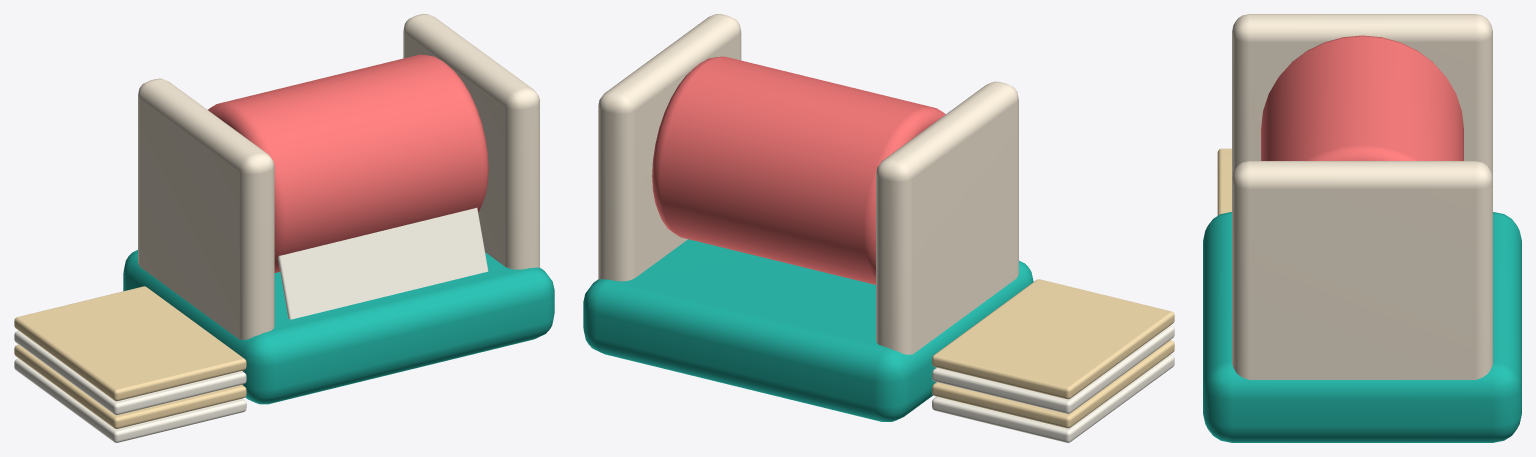
Rendered from CounterBags.fbx.
The picture shows the model from 3 angles, left to right: view 1: azimuth 30°, elevation 25°; view 2: azimuth 150°, elevation 25°; view 3: azimuth 270°, elevation 25°; orthographic projection. The views are drawn at different scales.
Visible parts, largest first — view 1: CounterBags mesh; view 2: CounterBags mesh; view 3: CounterBags mesh.
Boxes of the visible parts, <box> form: CounterBags mesh: <box>14,14,554,442</box>; CounterBags mesh: <box>583,14,1174,442</box>; CounterBags mesh: <box>1203,14,1521,442</box>.
Bounding box in the file's own units: 0.4 × 0.21 × 0.22.
